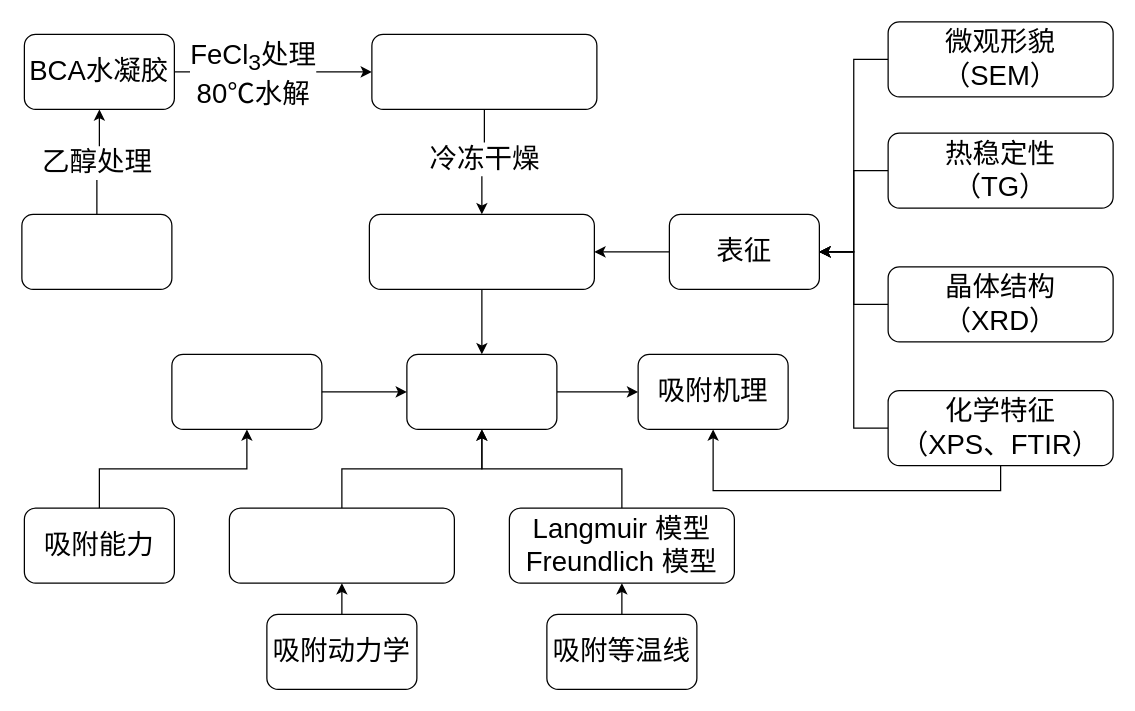
Image size: 1135x711. Some labels were removed from this diagram. The centre of each missing label's shape, as x and y in pixels:
"BCA@FeOOH" belongs at point (481, 251).
"BCA@FeOOH 水凝胶" belongs at point (484, 71).
"BC水凝胶" belongs at point (96, 251).
"CR 吸附" belongs at point (481, 391).
"pH 值 吸附剂质量" belongs at point (246, 391).
"准一阶动力学 准二阶动力学" belongs at point (341, 545).
